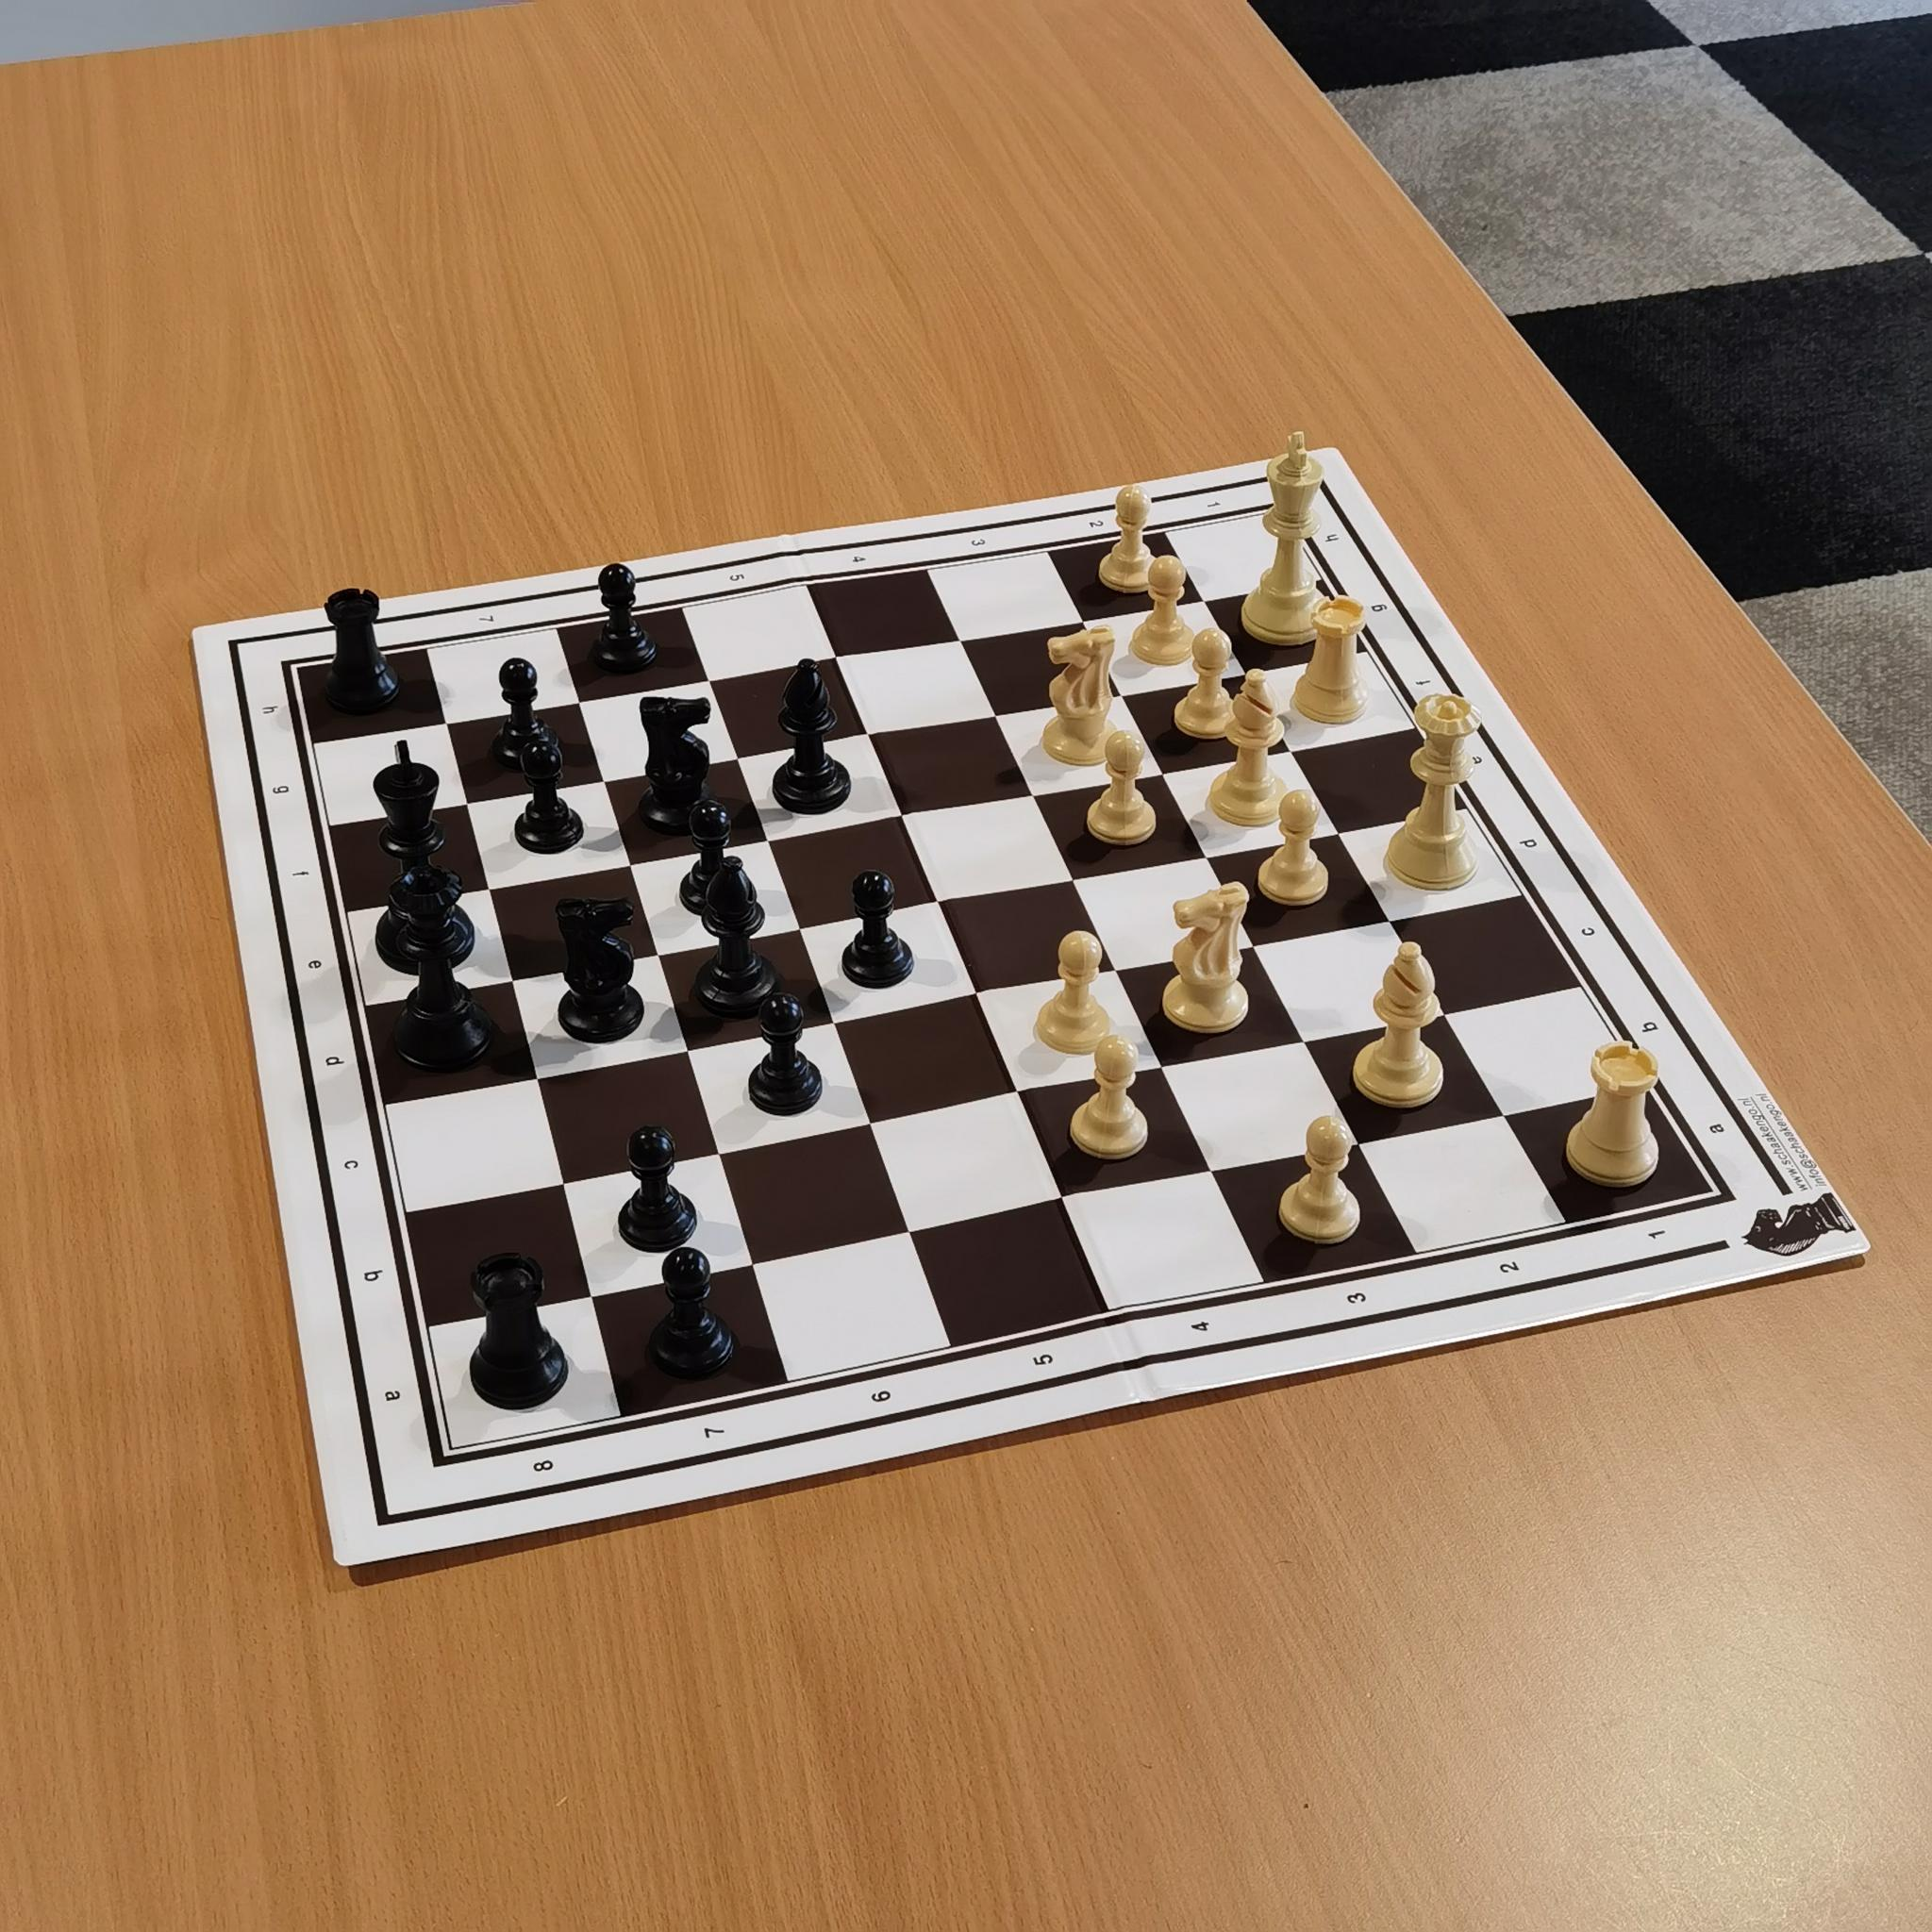corners: (1699, 1176, 1748, 1227), (1265, 484, 1307, 537), (419, 1441, 467, 1486), (271, 649, 320, 688)
eight: (517, 1436, 570, 1490), (327, 618, 380, 659)
one: (1639, 1215, 1674, 1250), (1198, 486, 1232, 516)
